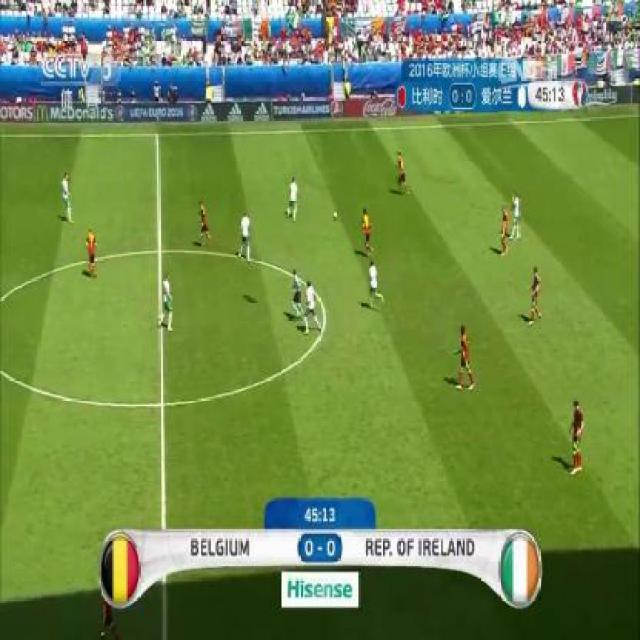football: (318, 207, 352, 230)
